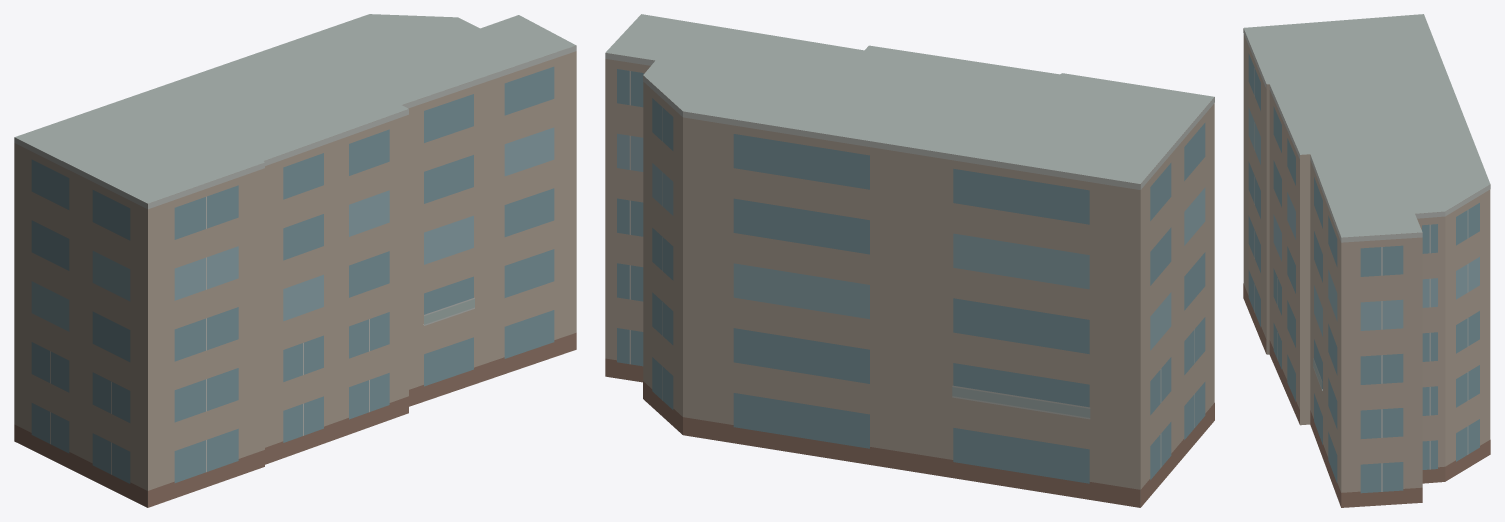
The model's file is survey-upis-33029833.glb.
3 renders of one model, left to right at view 1: azimuth 30°, elevation 25°; view 2: azimuth 150°, elevation 25°; view 3: azimuth 270°, elevation 25°, orthographic. The views are drawn at different scales.
Visible parts, largest first — view 1: survey-upis-33029833.tmp; view 2: survey-upis-33029833.tmp; view 3: survey-upis-33029833.tmp.
Part boxes in pixels (<box>): survey-upis-33029833.tmp: <box>14,14,576,507</box>; survey-upis-33029833.tmp: <box>605,14,1214,507</box>; survey-upis-33029833.tmp: <box>1243,14,1490,507</box>.
Size of the model in its own units: 23.25 by 13.1 by 10.86.
